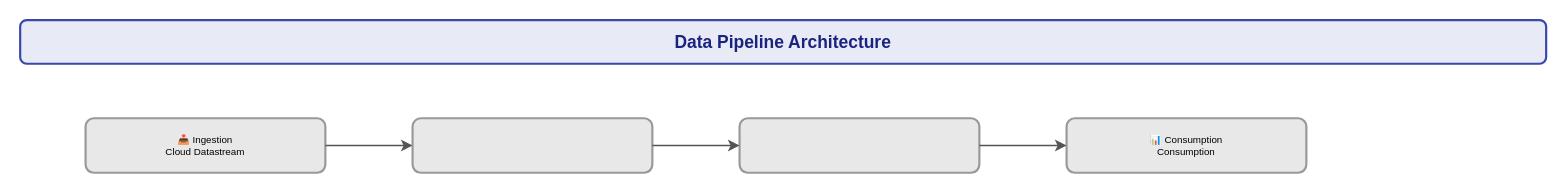
This 1565x192 diagram has some shape labels left out. The centre of each missing label's shape, as x and y in pixels:
⚙️ Processing BigQuery Stored Procedures (MERGE / sp_mysqltobq_load.sql): (x=532, y=145)
💾 Storage Google BigQuery: (x=859, y=145)
